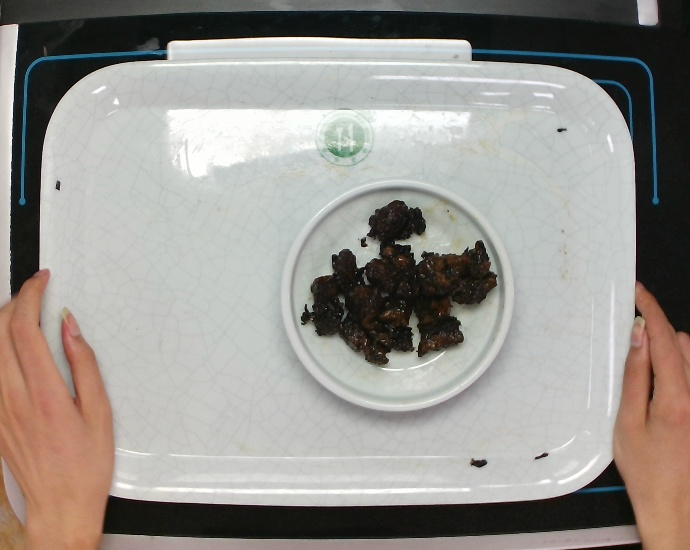JYsf-Xiao_Yuan_Pan: (278, 175, 516, 418)
